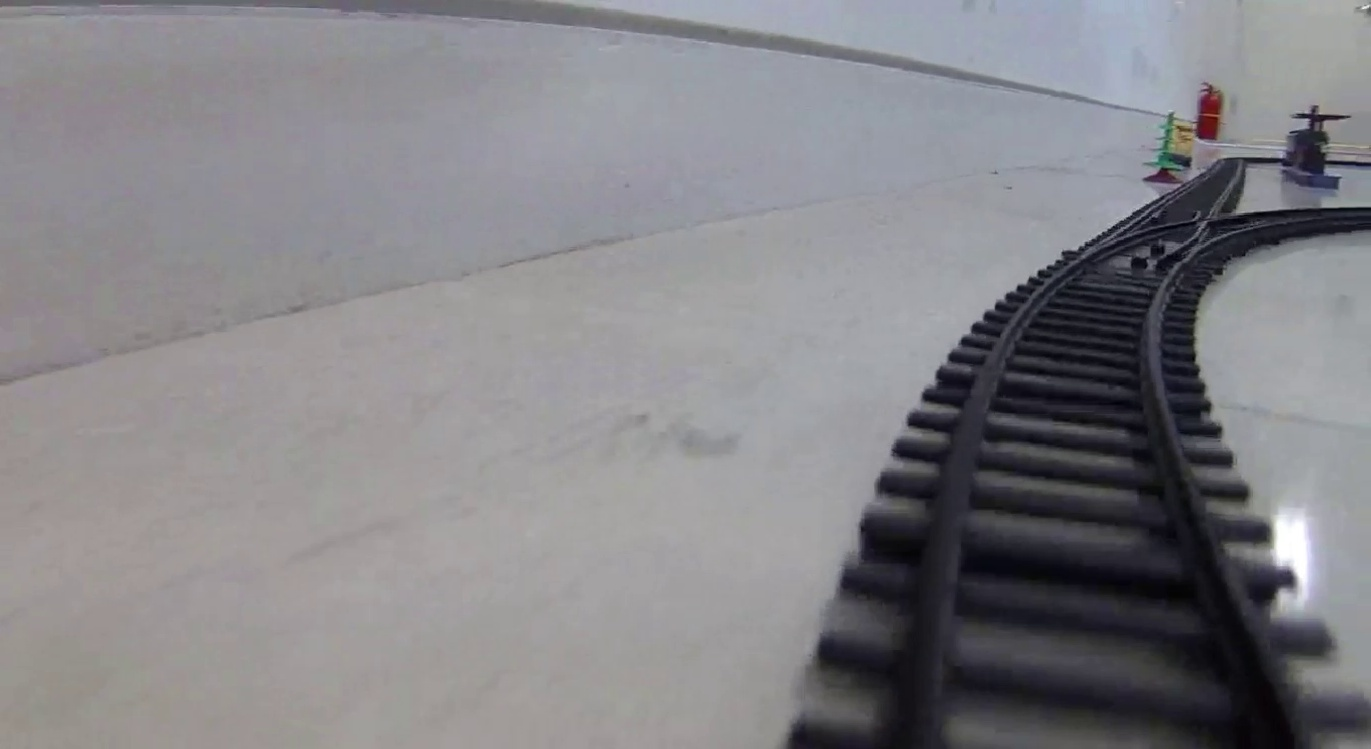tree: (1141, 111, 1184, 186)
